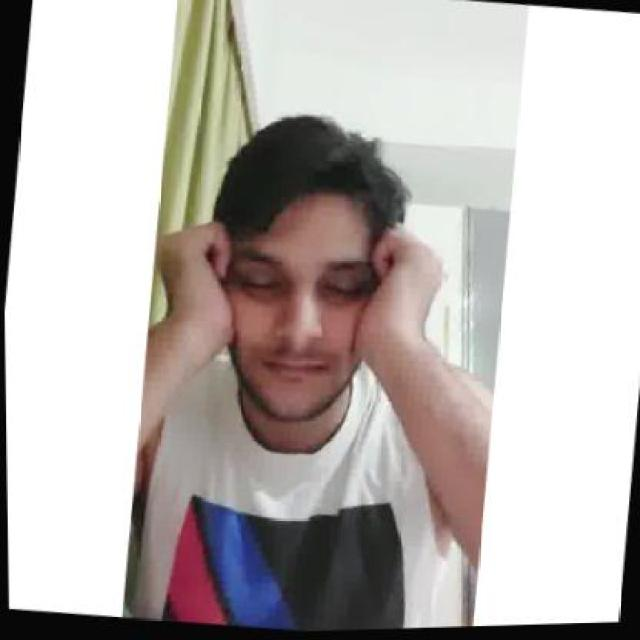inattentif: (191, 106, 397, 428)
